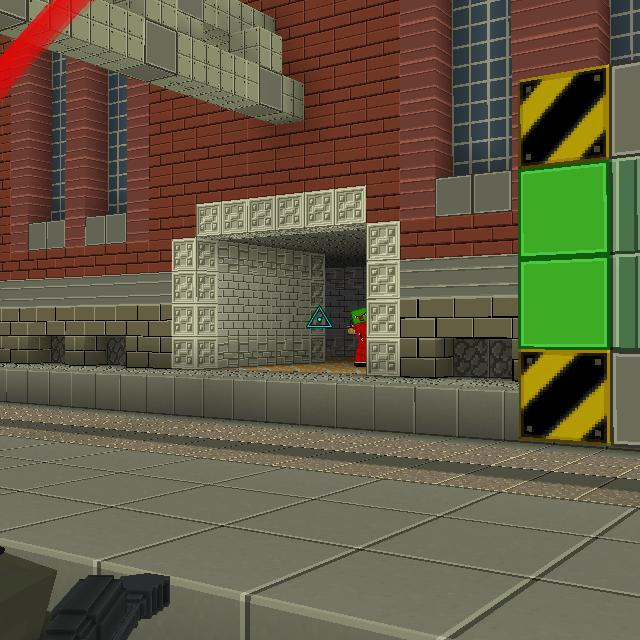enemy: (347, 306, 366, 367)
